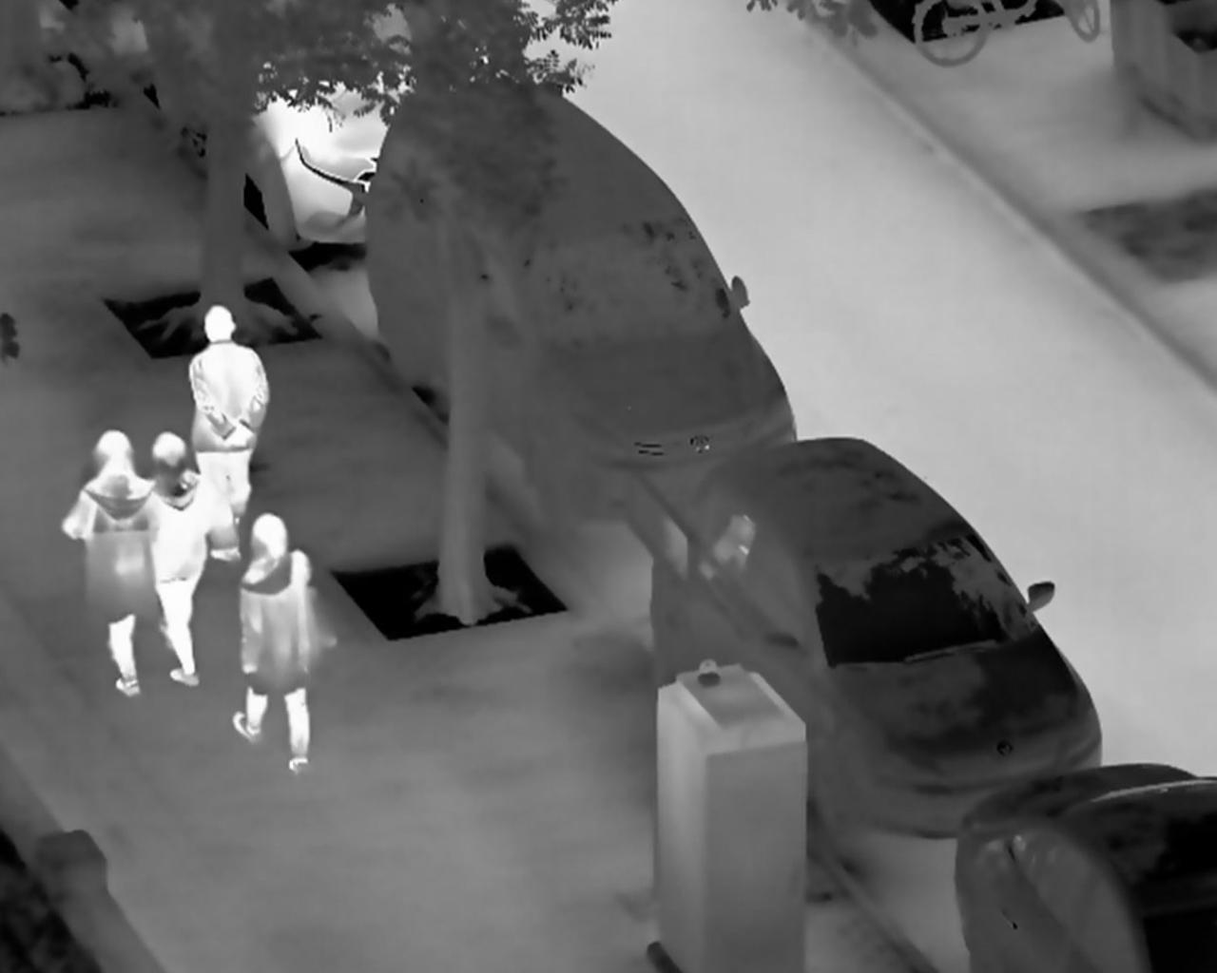person: (57, 427, 160, 699), (232, 512, 325, 778), (185, 302, 272, 566), (140, 429, 219, 686)
